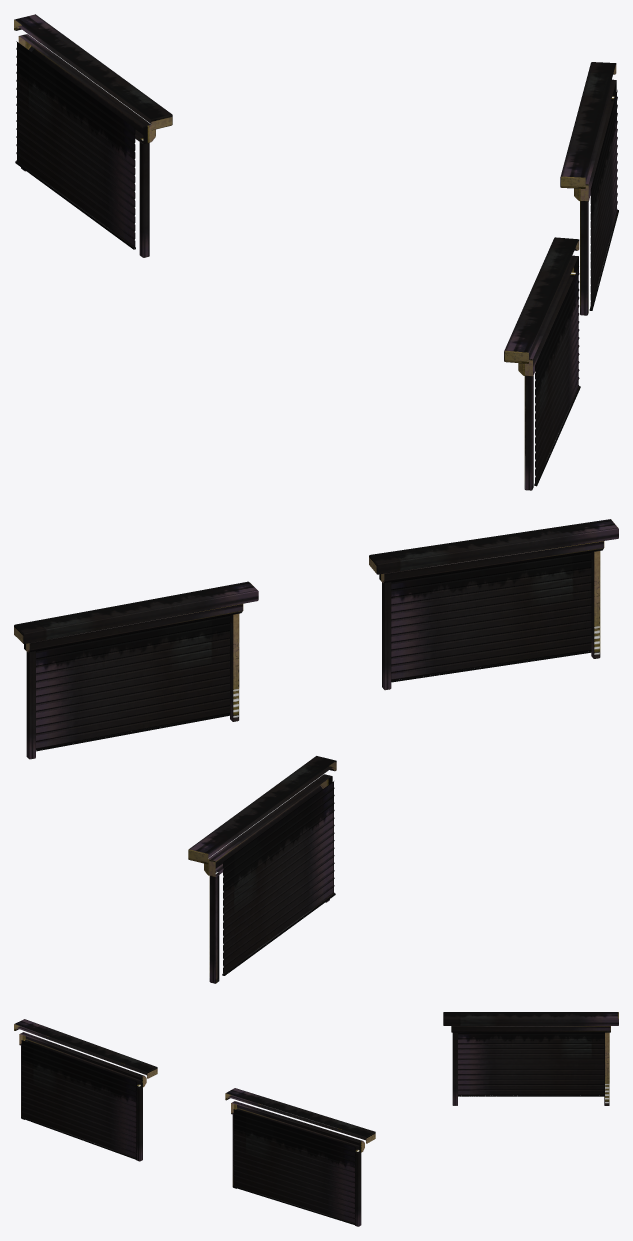
3 renders of one model, top to bottom at view 1: azimuth 30°, elevation 25°; view 2: azimuth 150°, elevation 25°; view 3: azimuth 270°, elevation 25°, orthographic. The views are drawn at different scales.
Parts seen in each view (by area): view 1: prop6; view 2: prop6; view 3: prop6.
Part boxes in pixels (box(x1,y1,x2,y2)): prop6: box(14, 14, 618, 490); prop6: box(14, 519, 618, 983); prop6: box(14, 1012, 618, 1226).
Size of the model in its own units: 12.19 by 4.12 by 24.17.
2 materials, 1 textured.
